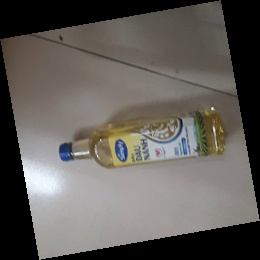Simply: (55, 103, 227, 171)
